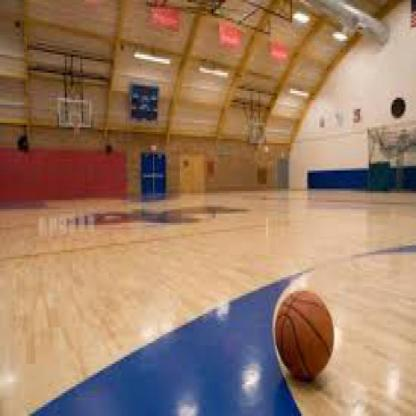basketball: (274, 289, 336, 382)
